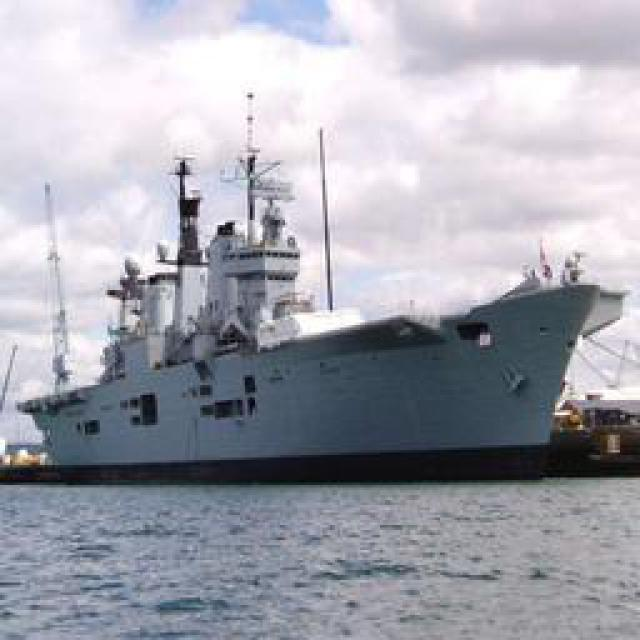Ship: (16, 124, 609, 487)
